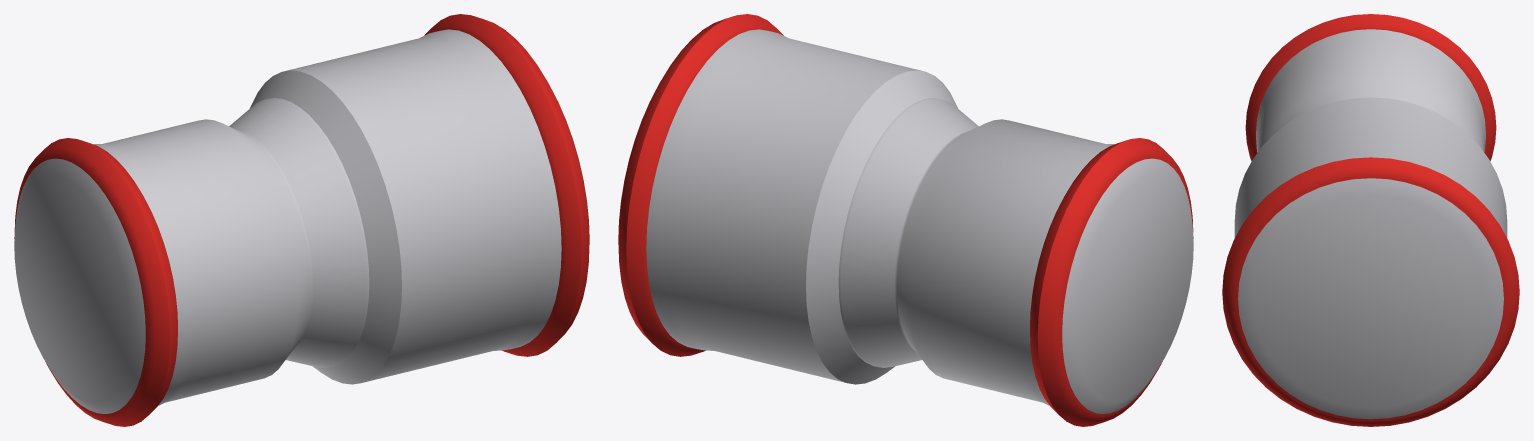
The model's file is fitting_cp_42x35_r.glb.
3 views of the same model, side by side, from view 1: azimuth 30°, elevation 25°; view 2: azimuth 150°, elevation 25°; view 3: azimuth 270°, elevation 25° (orthographic). The views are drawn at different scales.
Visible parts, largest first — view 1: муфта, кольцо пресс, кольцо пресс.001; view 2: муфта, кольцо пресс, кольцо пресс.001; view 3: муфта, кольцо пресс.001, кольцо пресс.
Boxes of the visible parts, <box> form: муфта: <box>14,29,561,414</box>; кольцо пресс: <box>14,138,177,426</box>; кольцо пресс.001: <box>424,14,589,356</box>; муфта: <box>646,29,1193,414</box>; кольцо пресс: <box>1030,138,1193,426</box>; кольцо пресс.001: <box>618,14,783,356</box>; муфта: <box>1234,29,1507,419</box>; кольцо пресс.001: <box>1222,157,1519,426</box>; кольцо пресс: <box>1245,14,1496,161</box>.
Bounding box in the file's own units: 0.084 × 0.0573 × 0.0573.
